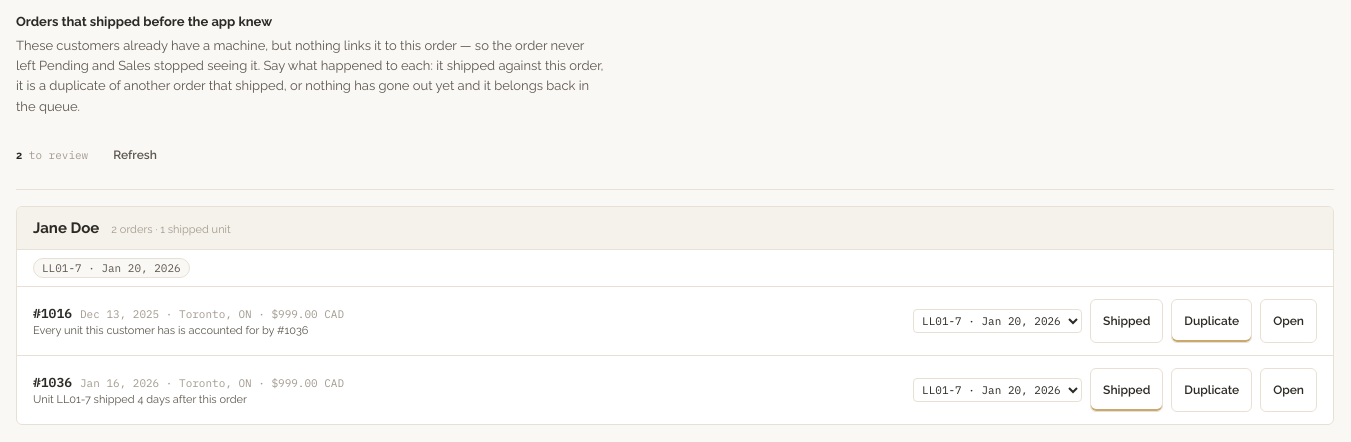
Test case: Reconcile › records a shipment against the chosen serial in one click
The image size is (1351, 442).
Click the button "Shipped" in the row of "Jan 16, 2026".
click(1127, 390)  # box [1090,368,1163,412]
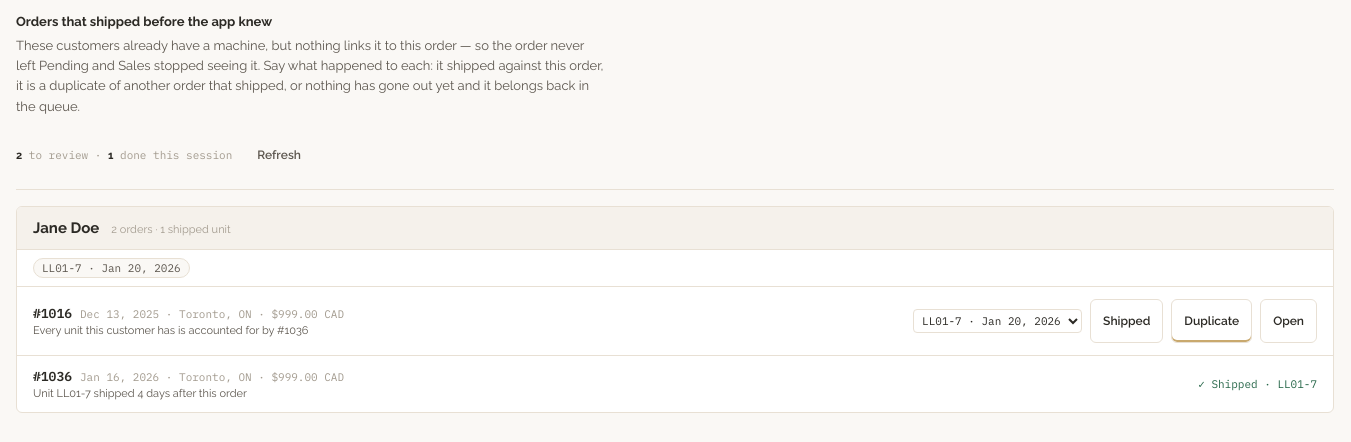
Check: the text "✓ Shipped · LL01-7" is shown, box [1198,377,1317,391]
